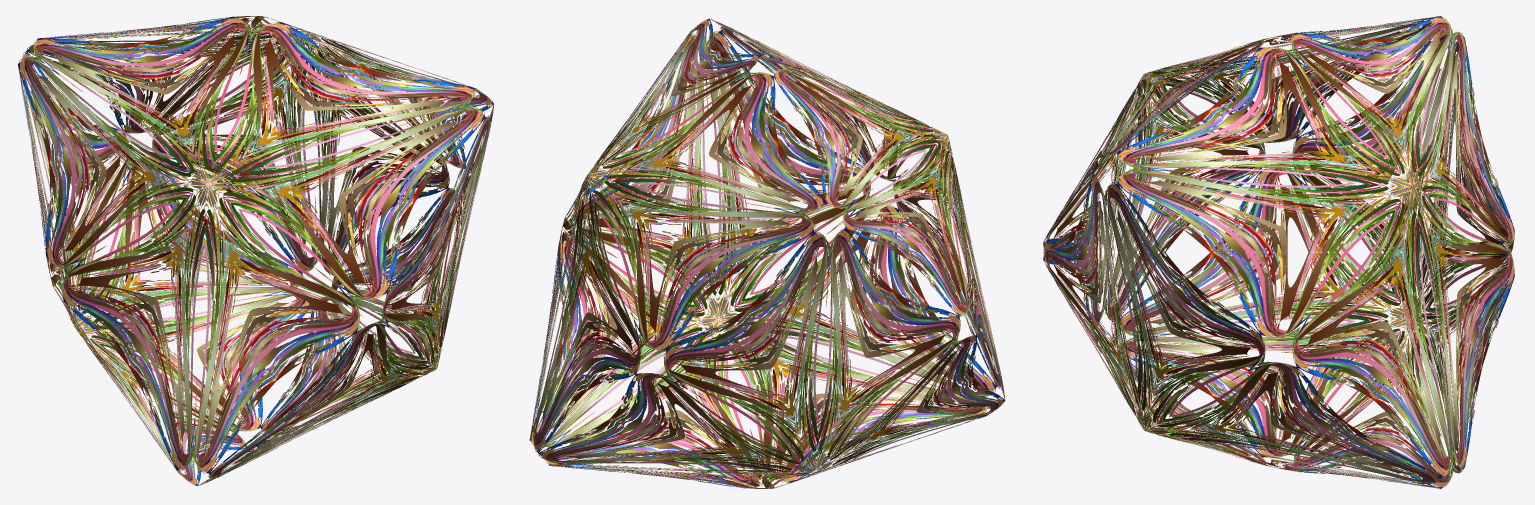
The model's file is HexakisTetrahedron9.obj.
3 views of the same model, side by side, from view 1: azimuth 30°, elevation 25°; view 2: azimuth 150°, elevation 25°; view 3: azimuth 270°, elevation 25° (orthographic).
Bounding box in the file's own units: 9.9 × 9.85 × 9.9.
1 material, 1 textured.
